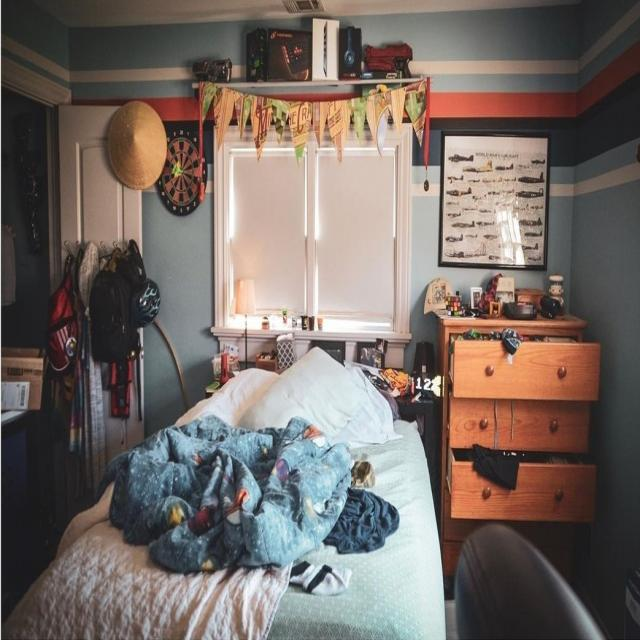bed: (55, 352, 424, 640)
